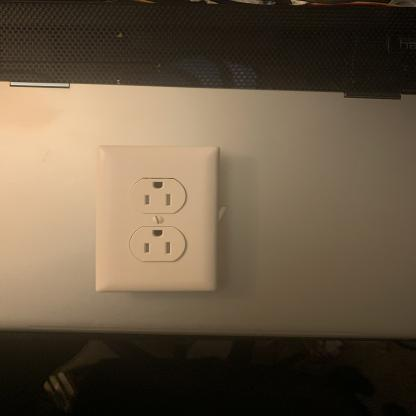OUTLET: (96, 143, 222, 294)
